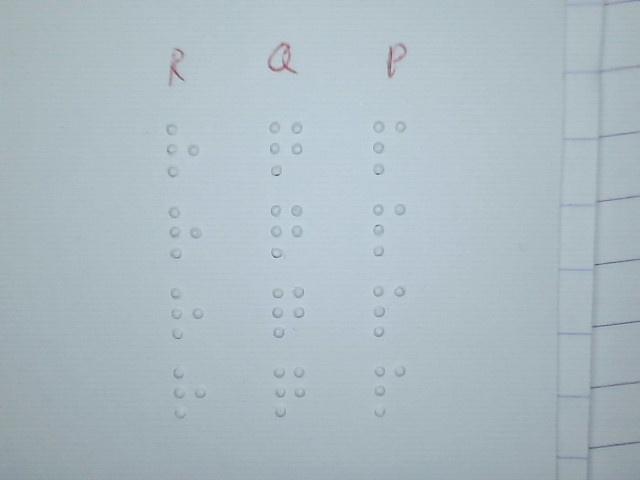P: (372, 118, 407, 175), (372, 201, 407, 258), (372, 282, 407, 337), (372, 363, 407, 418)
Q: (268, 119, 303, 176), (269, 202, 304, 259), (271, 283, 306, 340), (272, 362, 306, 417)
R: (165, 121, 200, 178), (168, 204, 203, 260), (169, 286, 205, 340), (171, 365, 207, 419)
